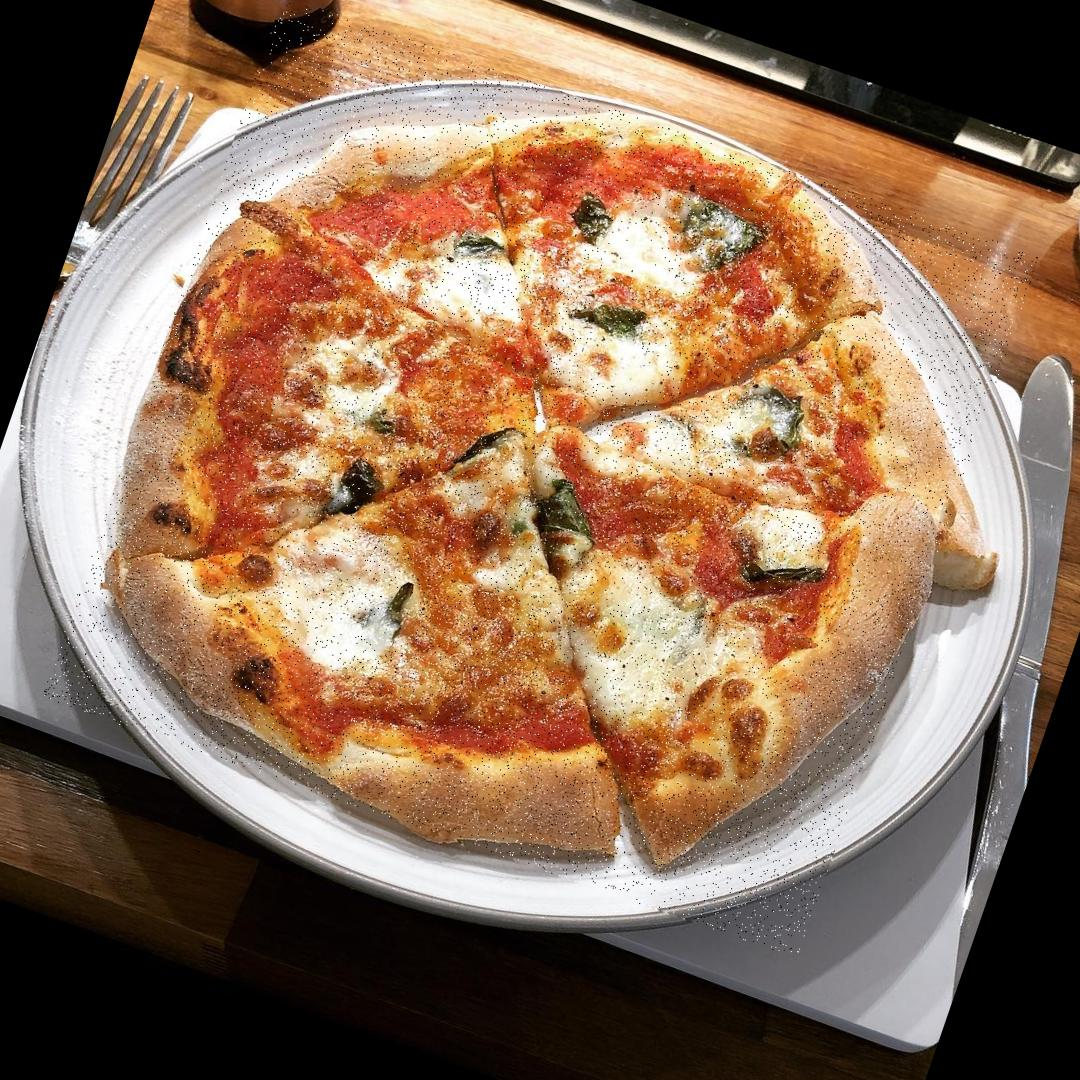Basil: (670, 190, 773, 282), (523, 470, 614, 554), (741, 535, 838, 610), (738, 374, 822, 456), (455, 412, 532, 490), (326, 449, 400, 525), (575, 280, 655, 348), (370, 571, 429, 655), (557, 186, 628, 254), (452, 212, 522, 276), (360, 391, 416, 453)
Cheese: (558, 572, 706, 728), (270, 526, 390, 664), (420, 243, 526, 325), (605, 409, 702, 490), (312, 340, 389, 418), (603, 219, 685, 290), (579, 336, 666, 401), (758, 510, 830, 566), (697, 392, 753, 450)
Pizza: (42, 0, 1040, 959)
